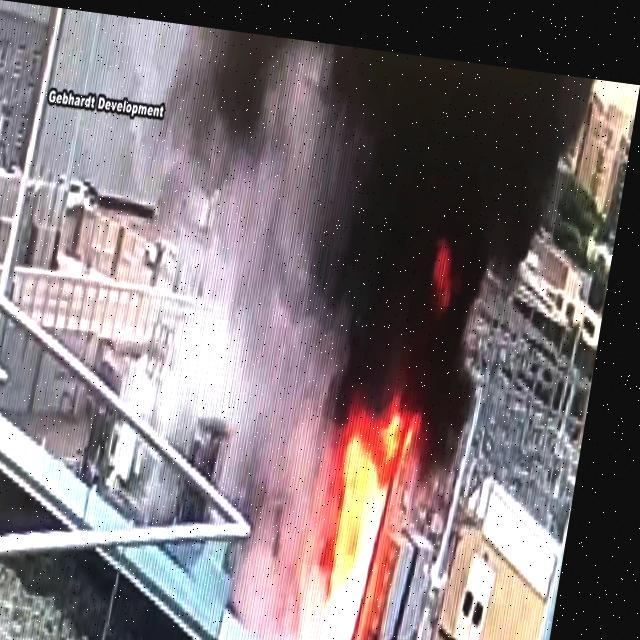Fire: (294, 352, 436, 639)
